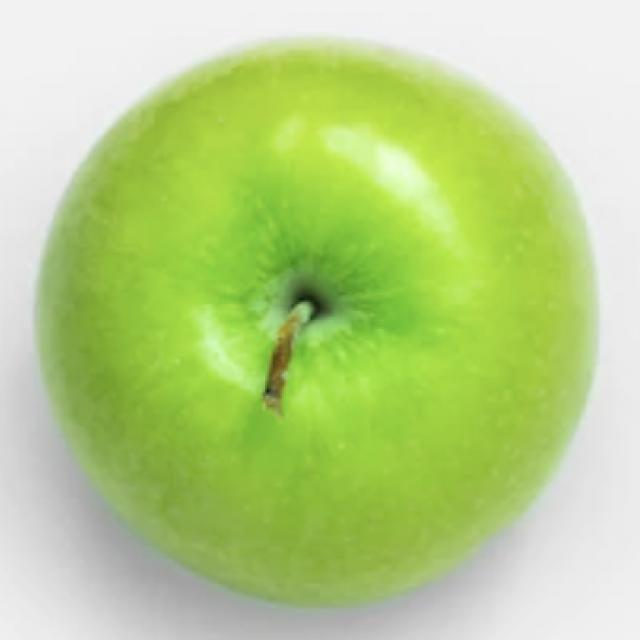Fresh Apple: (41, 62, 582, 615)
